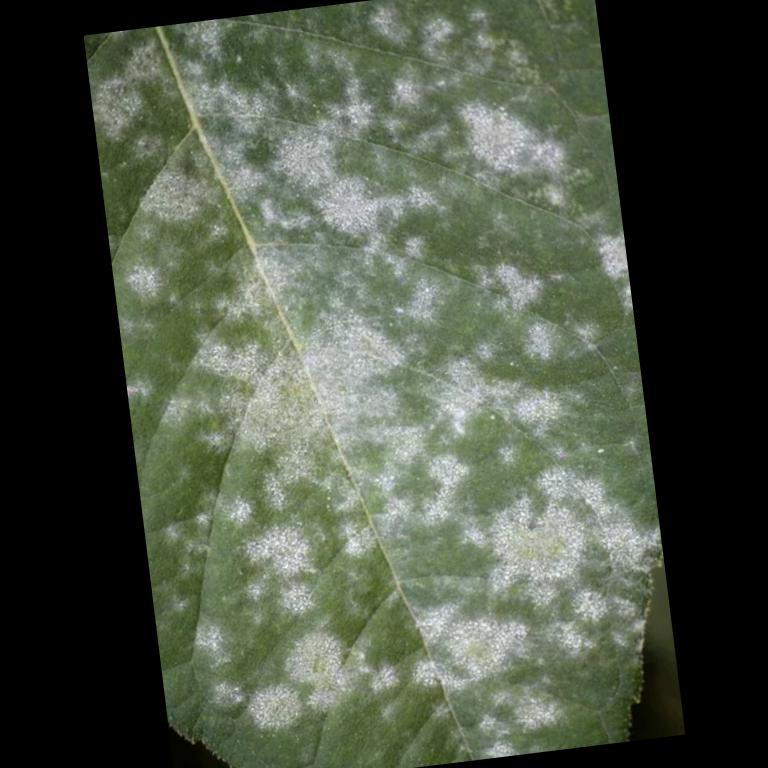powdery-mildew: (160, 36, 628, 728)
